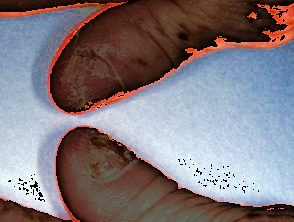Nail_psoriasis: (29, 7, 159, 127), (39, 113, 160, 222)
